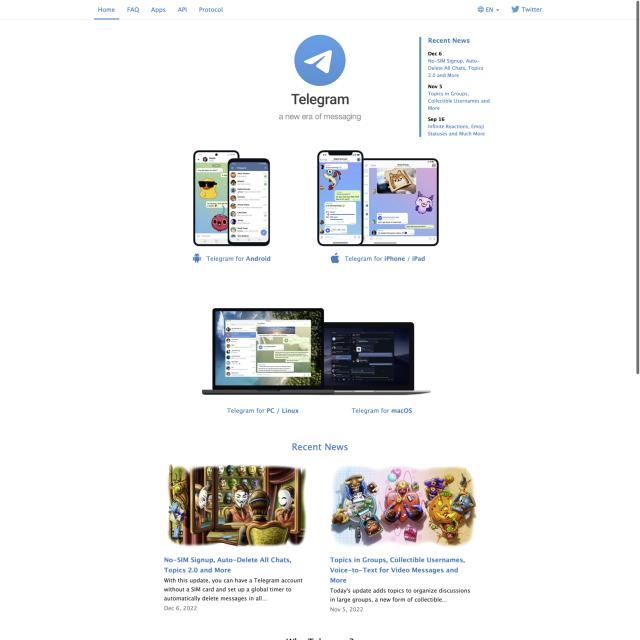logo: (293, 34, 348, 87)
navigation: (91, 0, 226, 20)
